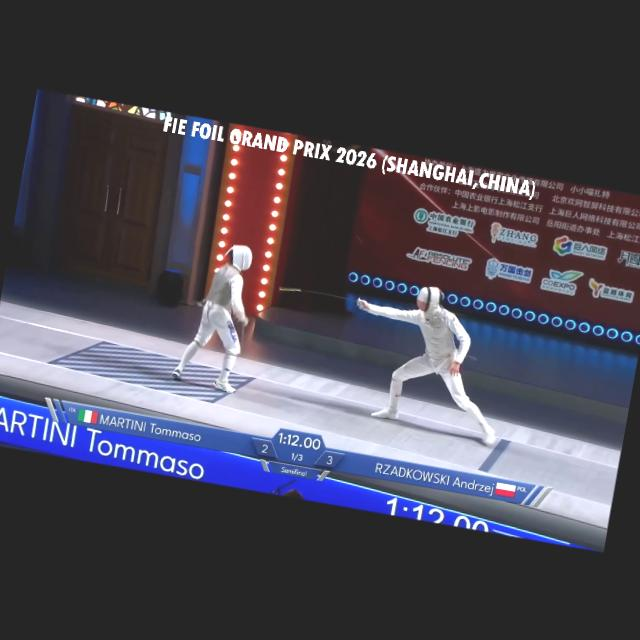blade: (274, 280, 370, 316), (230, 310, 252, 359)
